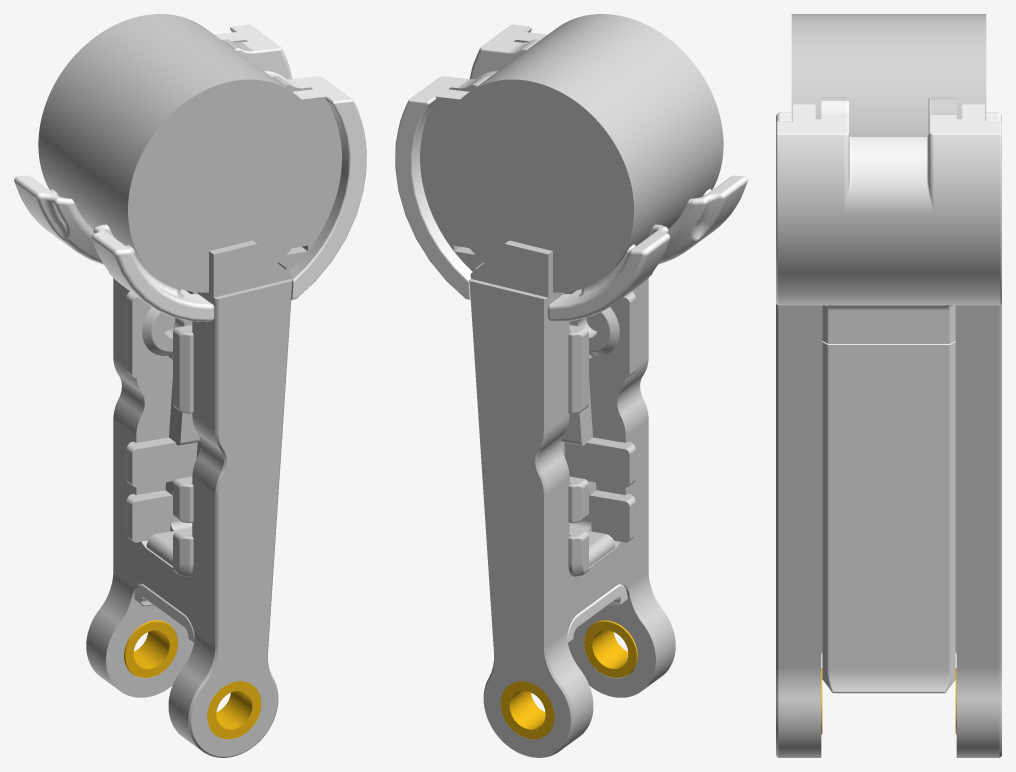
The model's file is rg2_outer_knuckle.dae.
3 renders of one model, left to right at view 1: azimuth 30°, elevation 25°; view 2: azimuth 150°, elevation 25°; view 3: azimuth 270°, elevation 25°, orthographic. The views are drawn at different scales.
Visible parts, largest first — view 1: LeftOuterKnuckle, Bush.007, Bush.002; view 2: LeftOuterKnuckle, Bush.002, Bush.007; view 3: LeftOuterKnuckle.
Boxes of the visible parts, left/top/right/bottom form: LeftOuterKnuckle: left=14, top=14, right=366, bottom=757; Bush.007: left=207, top=681, right=261, bottom=739; Bush.002: left=124, top=620, right=177, bottom=677; LeftOuterKnuckle: left=395, top=14, right=747, bottom=757; Bush.002: left=500, top=681, right=554, bottom=739; Bush.007: left=584, top=620, right=637, bottom=677; LeftOuterKnuckle: left=776, top=14, right=1001, bottom=757.
Bounding box in the file's own units: 0.0279 × 0.02 × 0.071.
